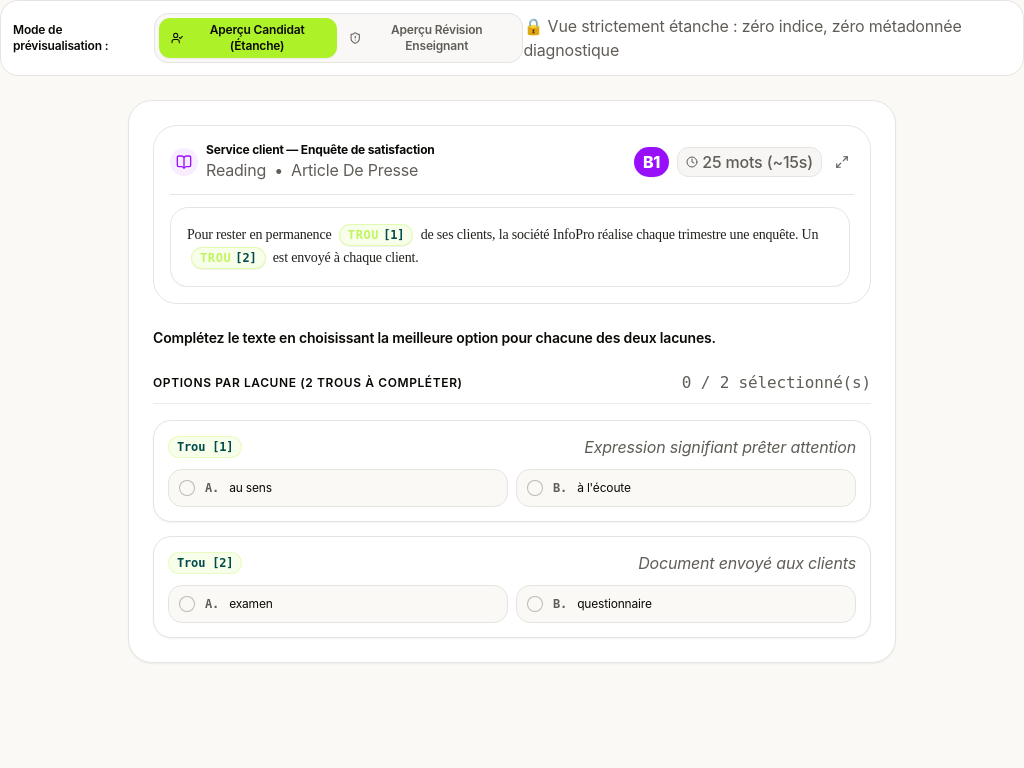
Test: Multi-Gap Question Components Suite › renders PreviewTab in student interactive mode and admin diagnostic mode
The width and height of the screenshot is (1024, 768).
Expected: the text "Options par lacune (2 trous à compléter)" is shown, x1=153 y1=375 x2=463 y2=391
Expected: the text "0 / 2 sélectionné(s)" is shown, x1=682 y1=371 x2=871 y2=395
// Click option in Trou [1]
Click the text "à l'écoute" at (604, 487), box x1=577 y1=480 x2=631 y2=495
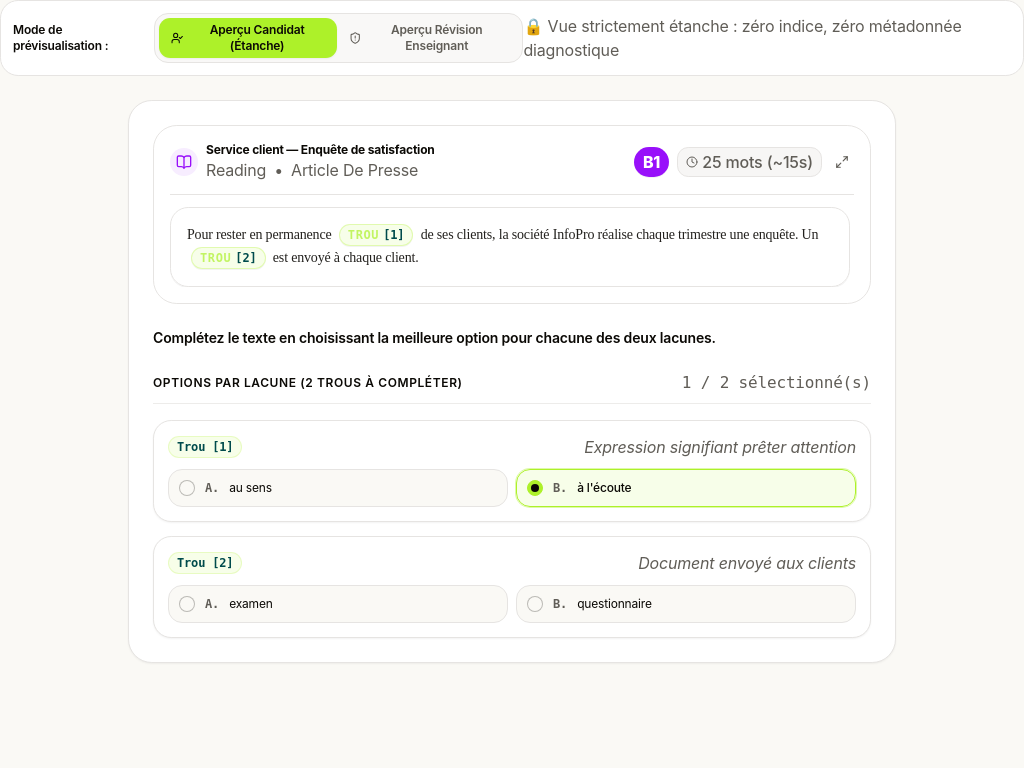
Expected: the text "1 / 2 sélectionné(s)" is shown, x1=682 y1=371 x2=871 y2=395
// Switch to Admin review mode
Click the button "Aperçu Révision Enseignant" at (427, 38), box x1=336 y1=18 x2=518 y2=58
(page scrolled)
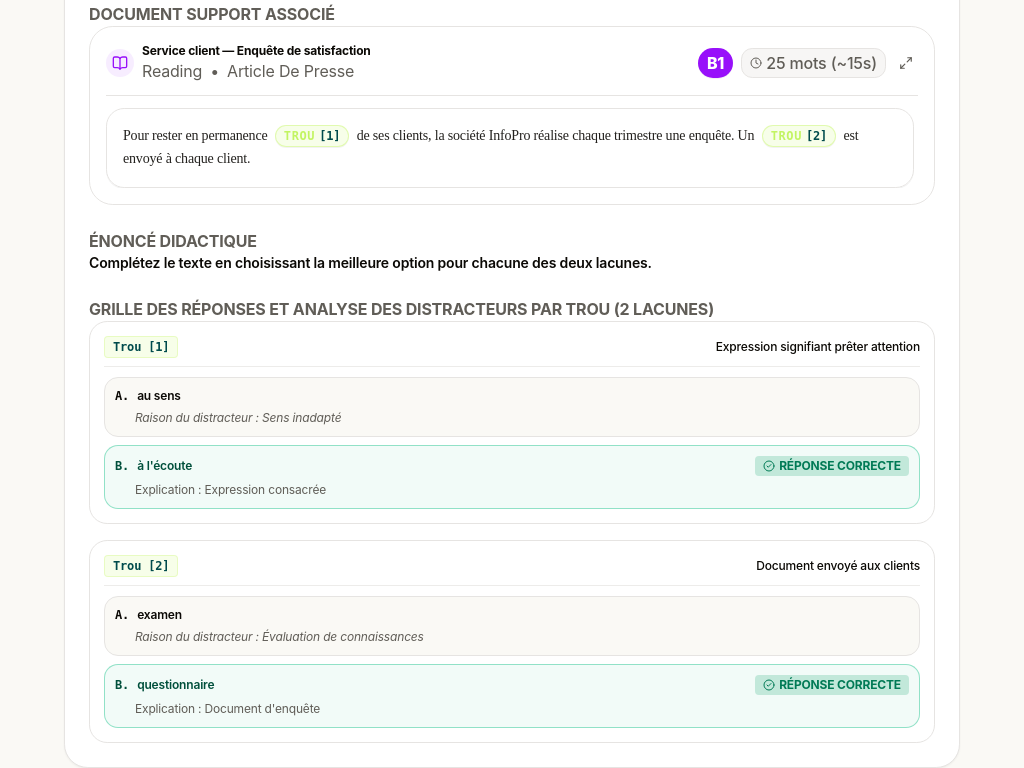
Expected: the text "Grille des réponses et analyse des distracteurs par trou" is shown, x1=89 y1=298 x2=620 y2=318
Expected: the text "RÉPONSE CORRECTE" is shown 2 times, x1=755 y1=456 x2=909 y2=476; x1=755 y1=674 x2=909 y2=694
Expected: the text "Explication : Document d'enquête" is shown, x1=135 y1=700 x2=320 y2=716
